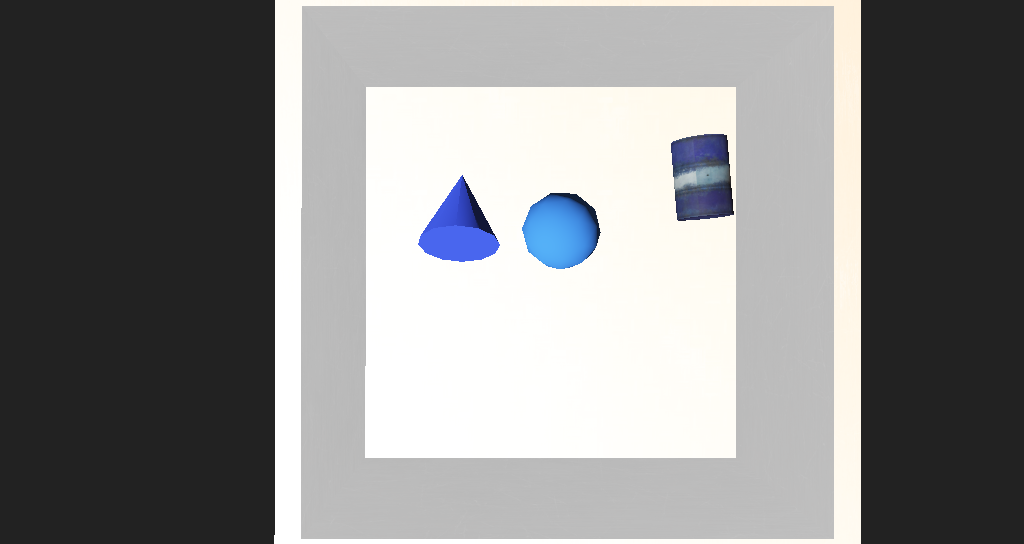cone: (600, 188, 653, 241)
cylinder: (394, 196, 468, 262)
sphere: (478, 220, 546, 267)
